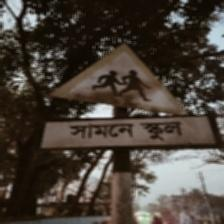School-in-front: (41, 42, 219, 153)
